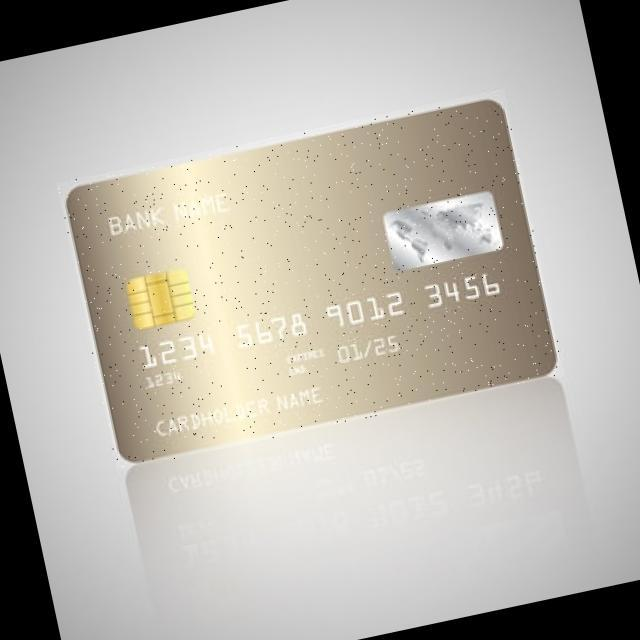payment_card: (62, 97, 560, 462)
